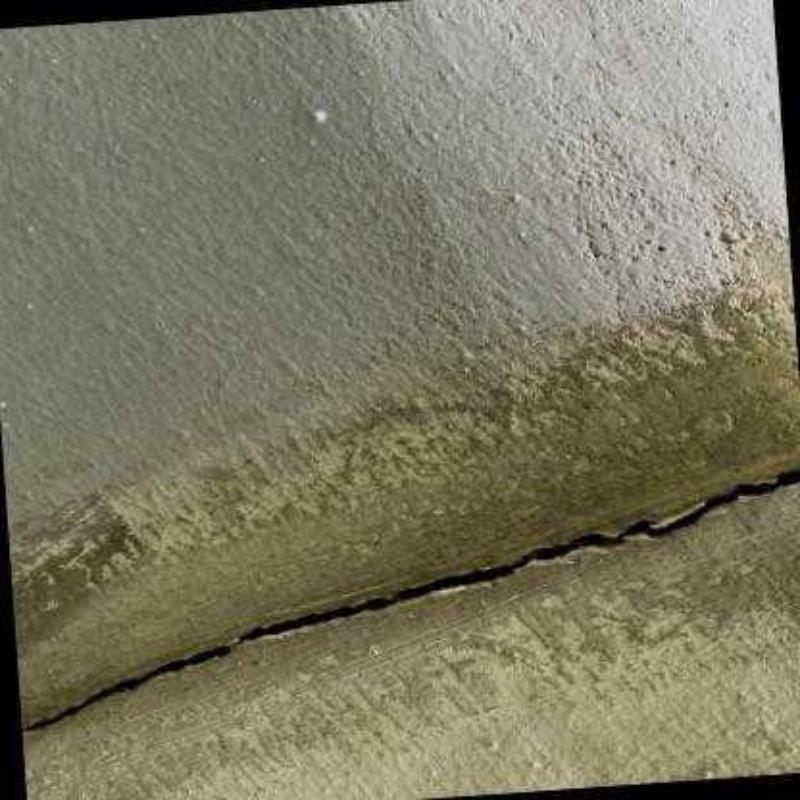pothole: (19, 464, 800, 735)
